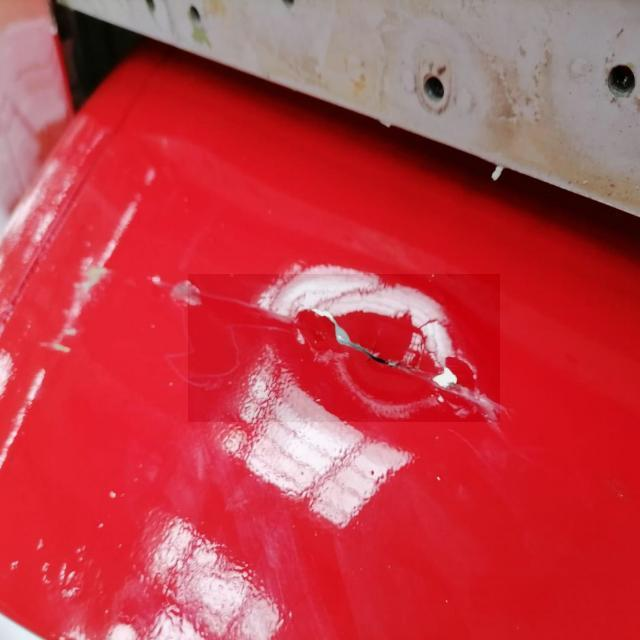crack: (189, 275, 501, 423)
